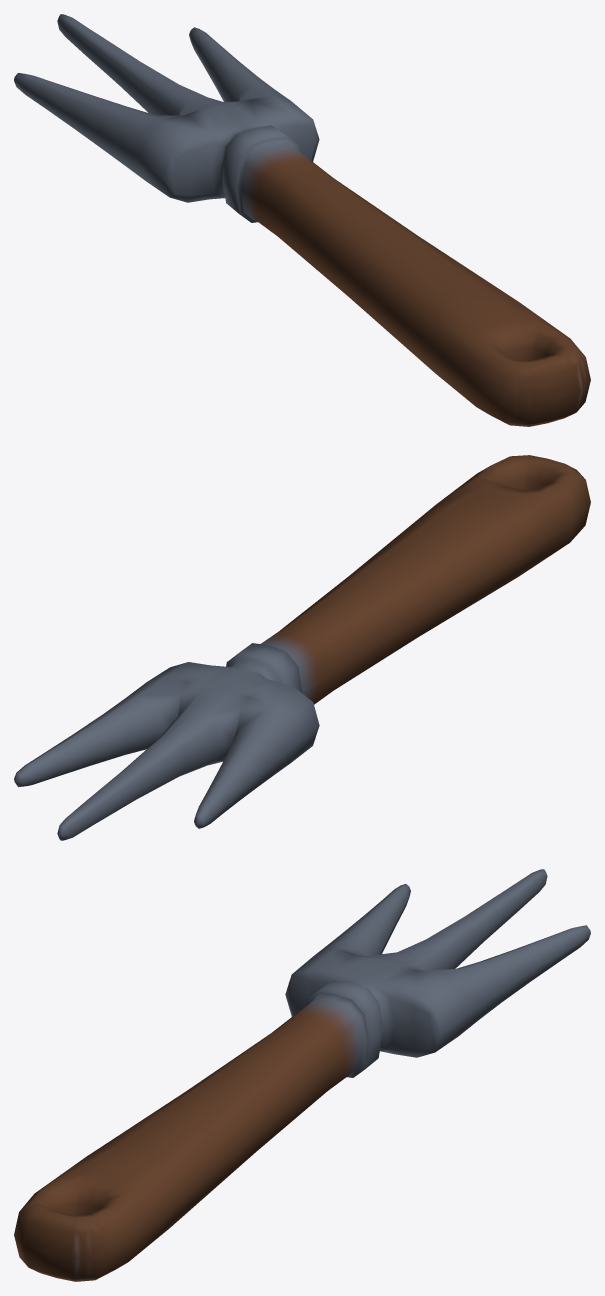
File: Fork.fbx
3 views of the same model, one above another, from view 1: azimuth 30°, elevation 25°; view 2: azimuth 150°, elevation 25°; view 3: azimuth 330°, elevation 25° (orthographic).
Parts seen in each view (by area): view 1: Fork; view 2: Fork; view 3: Fork.
Boxes of the visible parts, left/top/right/bottom form: Fork: left=14, top=14, right=590, bottom=426; Fork: left=14, top=455, right=590, bottom=840; Fork: left=14, top=869, right=590, bottom=1281.
Size of the model in its own units: 6.35 by 2.7 by 29.24.
